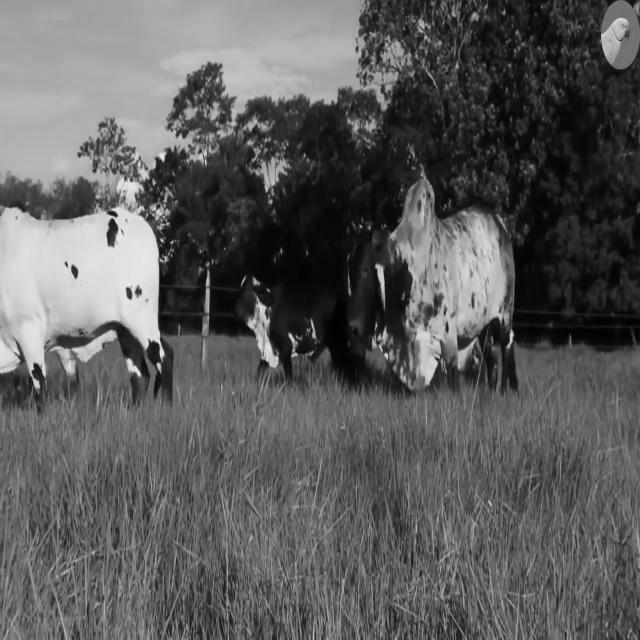cow: (349, 180, 518, 390), (0, 209, 174, 401)
